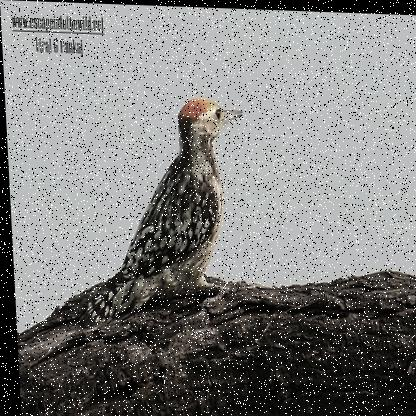Burung: (67, 93, 251, 339)
